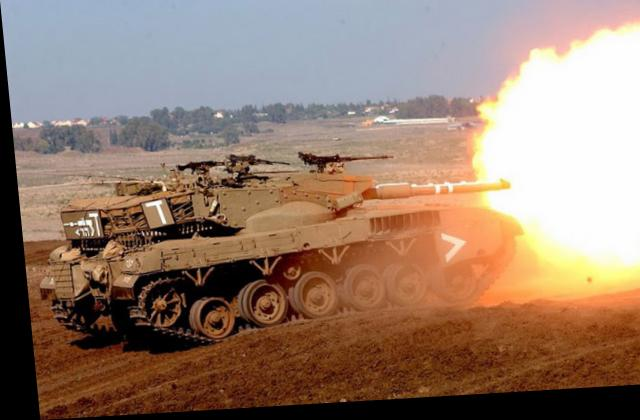tank: (18, 154, 521, 363)
